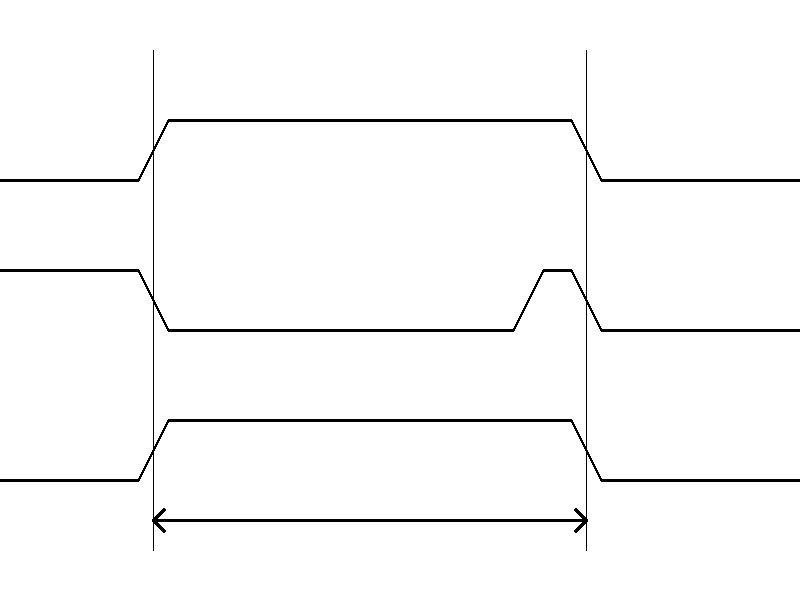double_arrow: (153, 505, 586, 535)
